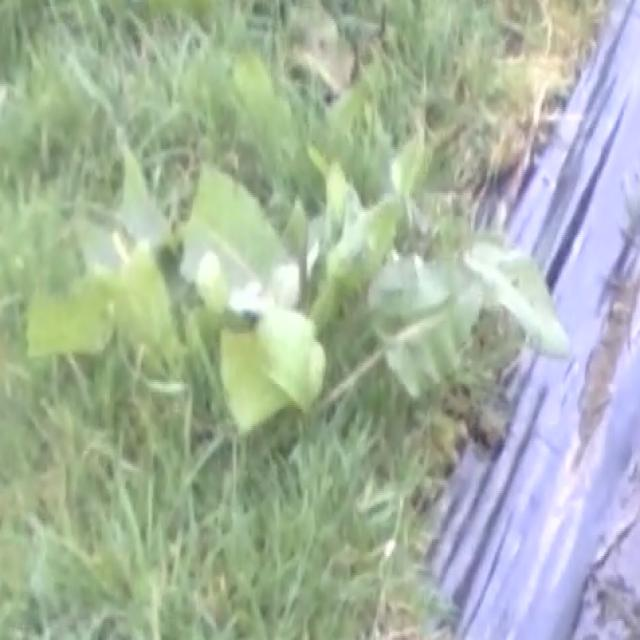organic waste: (9, 74, 592, 472), (238, 96, 602, 442), (22, 98, 328, 452)
